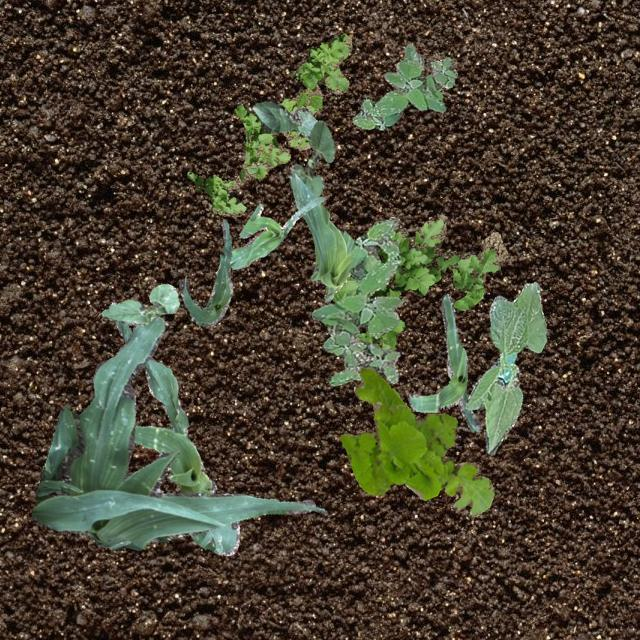crop: (31, 316, 324, 550), (114, 320, 238, 554), (464, 280, 546, 454), (406, 292, 481, 430), (294, 172, 354, 302), (228, 196, 324, 268), (178, 218, 232, 326), (288, 120, 334, 208), (100, 282, 178, 324), (252, 100, 316, 138)
weed: (186, 32, 350, 216), (332, 214, 506, 348), (339, 366, 494, 516), (311, 216, 403, 384), (352, 44, 456, 128)
